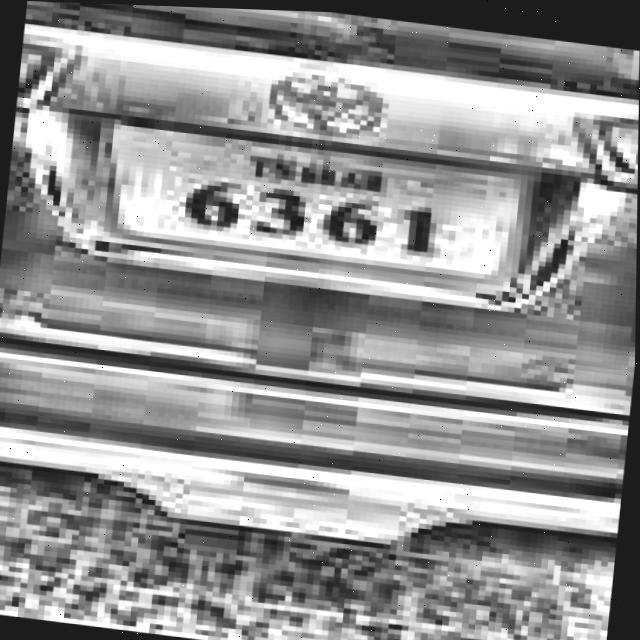light_vehicle: (0, 0, 640, 538)
